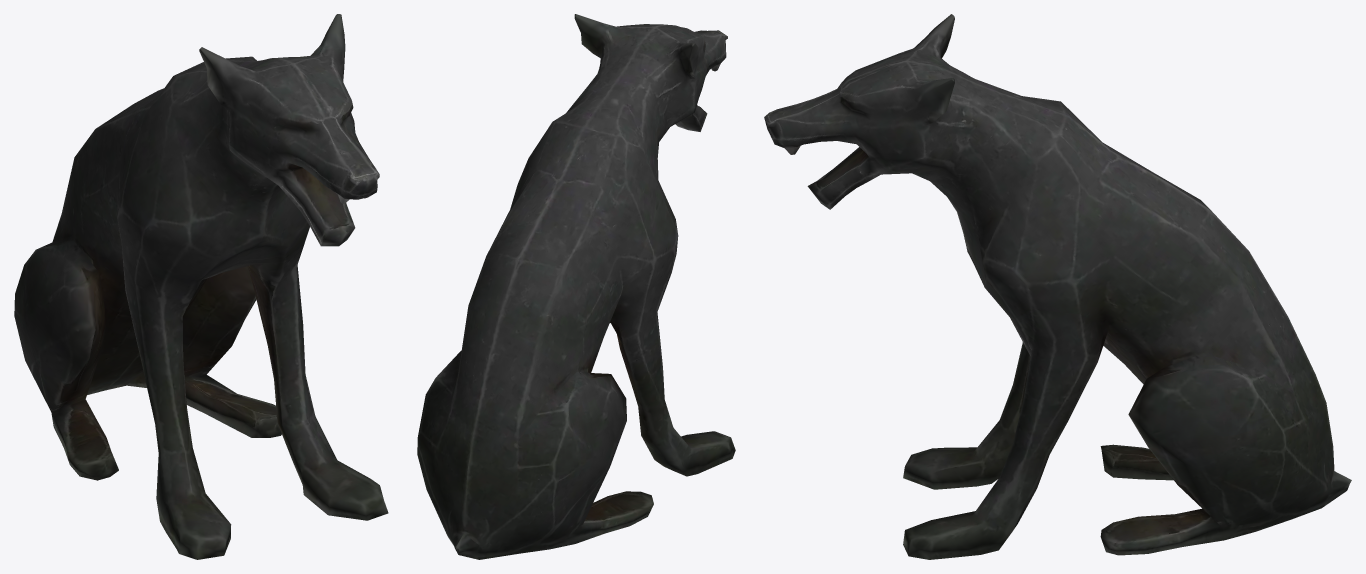
3 renders of one model, left to right at view 1: azimuth 30°, elevation 25°; view 2: azimuth 150°, elevation 25°; view 3: azimuth 270°, elevation 25°, orthographic. The views are drawn at different scales.
Parts seen in each view (by area): view 1: SM_Gargoyle_03_v1_LOD0; view 2: SM_Gargoyle_03_v1_LOD0; view 3: SM_Gargoyle_03_v1_LOD0.
Boxes of the visible parts, x1,y1,x2,y2 form: SM_Gargoyle_03_v1_LOD0: (14, 14, 388, 559); SM_Gargoyle_03_v1_LOD0: (417, 14, 735, 559); SM_Gargoyle_03_v1_LOD0: (764, 14, 1351, 559).
Bounding box in the file's own units: 1.13 × 2.47 × 2.81.
Materials: 1 (1 with a texture image).
